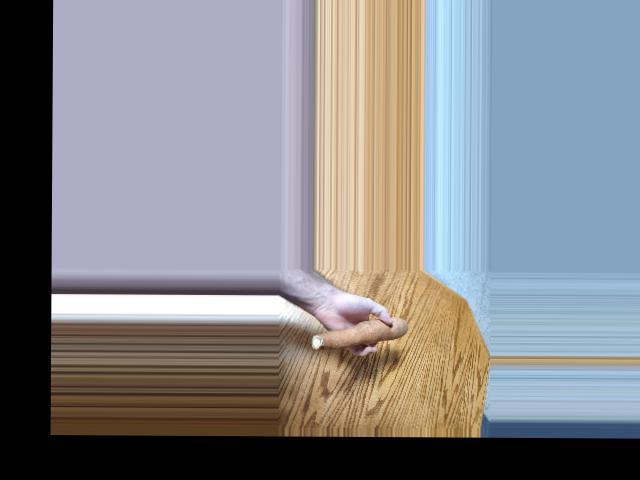sweet_potato: (303, 321, 412, 352)
